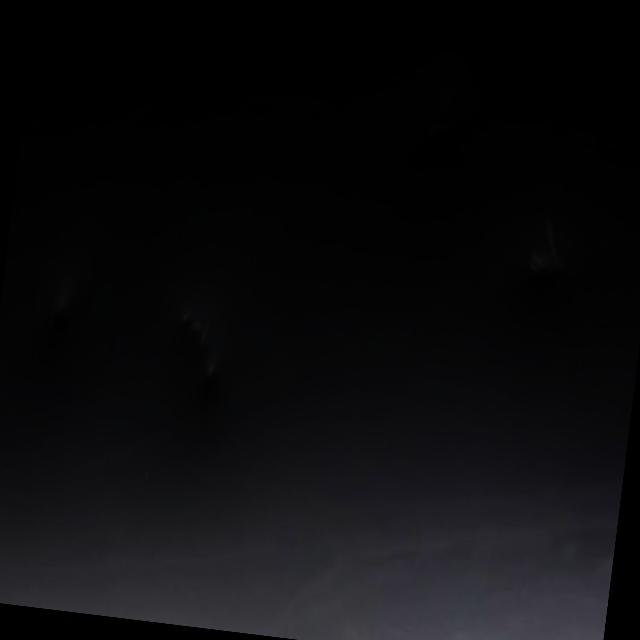dent: (146, 247, 239, 402), (416, 96, 466, 186), (528, 206, 578, 291), (46, 257, 90, 333)
